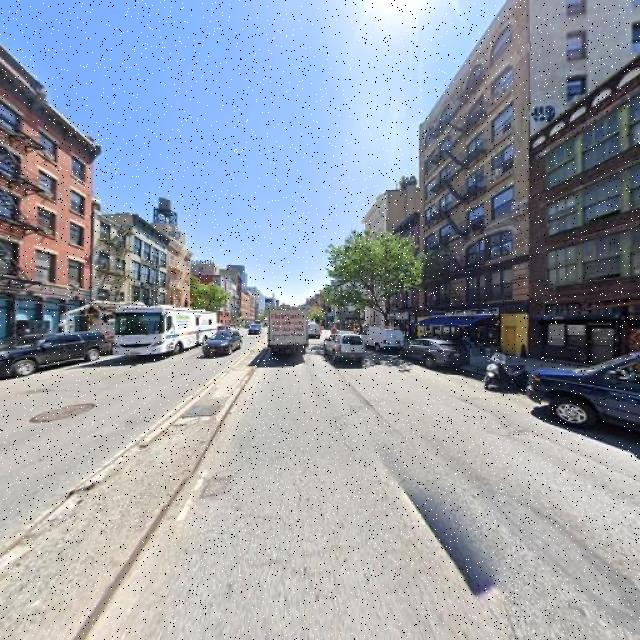Building: (422, 1, 527, 350), (532, 65, 640, 364), (1, 73, 87, 355), (93, 213, 127, 343), (132, 214, 163, 339), (389, 214, 419, 337), (367, 195, 387, 332), (167, 237, 189, 334)
